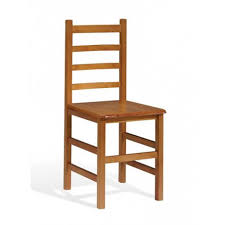tiyarina: (51, 12, 175, 212)
